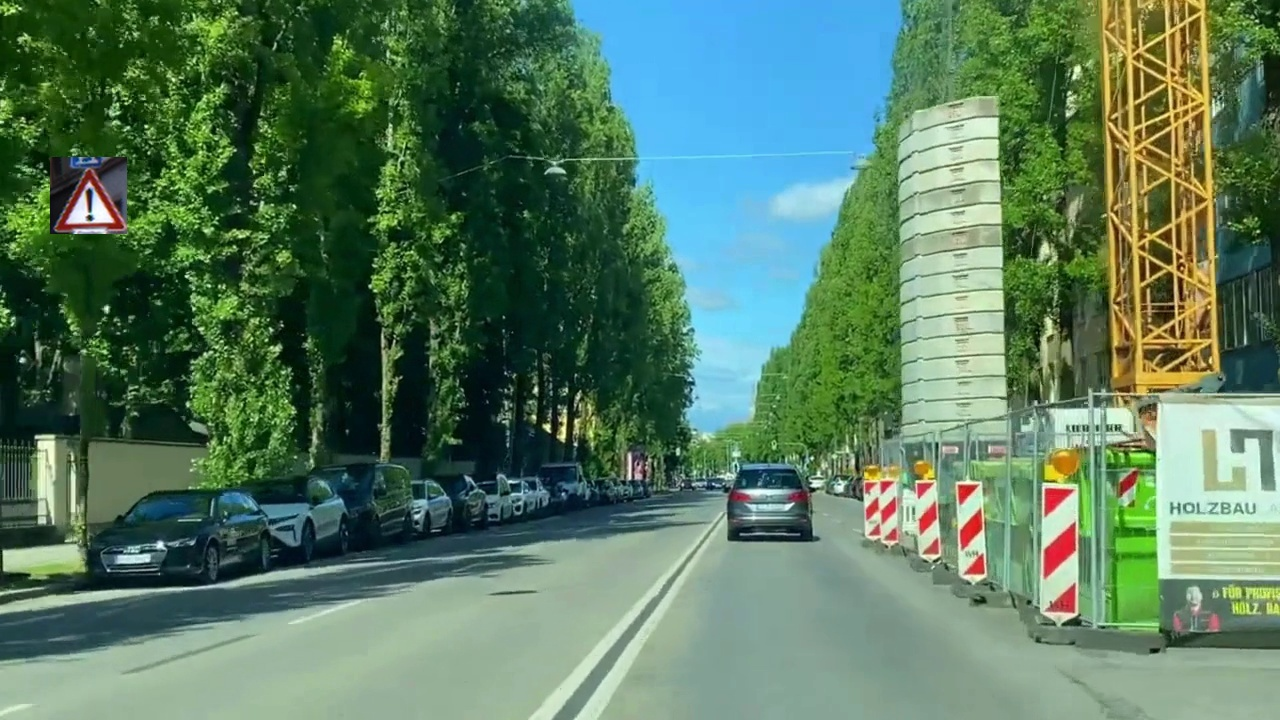Caution: (50, 157, 127, 234)
